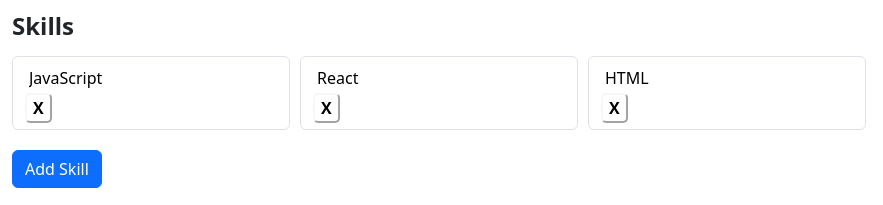
Skills › removes a skill when the remove button is clicked
Note: Simulate a click event on the remove button
Step 1. Click the 2nd button "X" → (326, 108), box [313, 93, 340, 123]
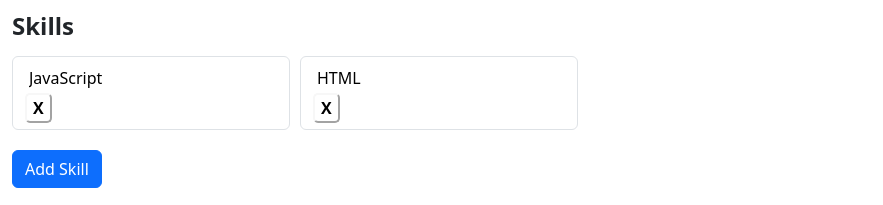
Expected: the 1st field holds "JavaScript", [25, 63, 264, 93]
Now the 2nd field holds "HTML", box [313, 63, 552, 93]
